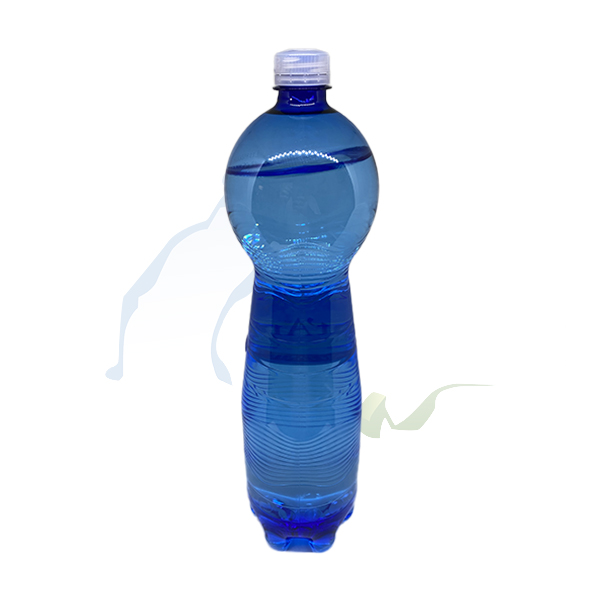PlasticBottle: (221, 36, 379, 563)
